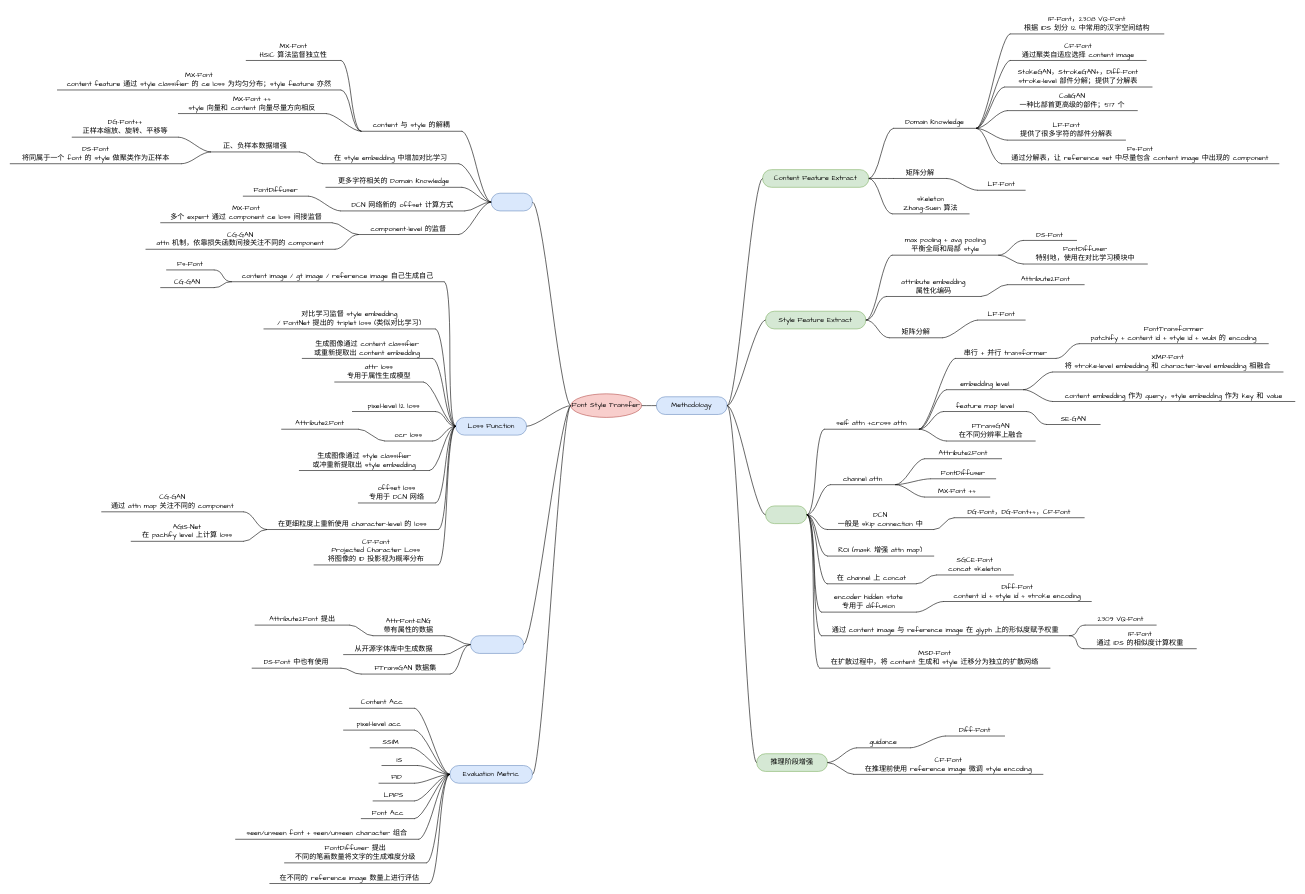
Some shapes in this 1305 by 894 pixel diagram are drawn without their labels. The centre of each missing label's shape, as x and y in pixels:
"Dataset" belongs at [497,644].
"Idea" belongs at [511,202].
"融合" belongs at [786,514].
